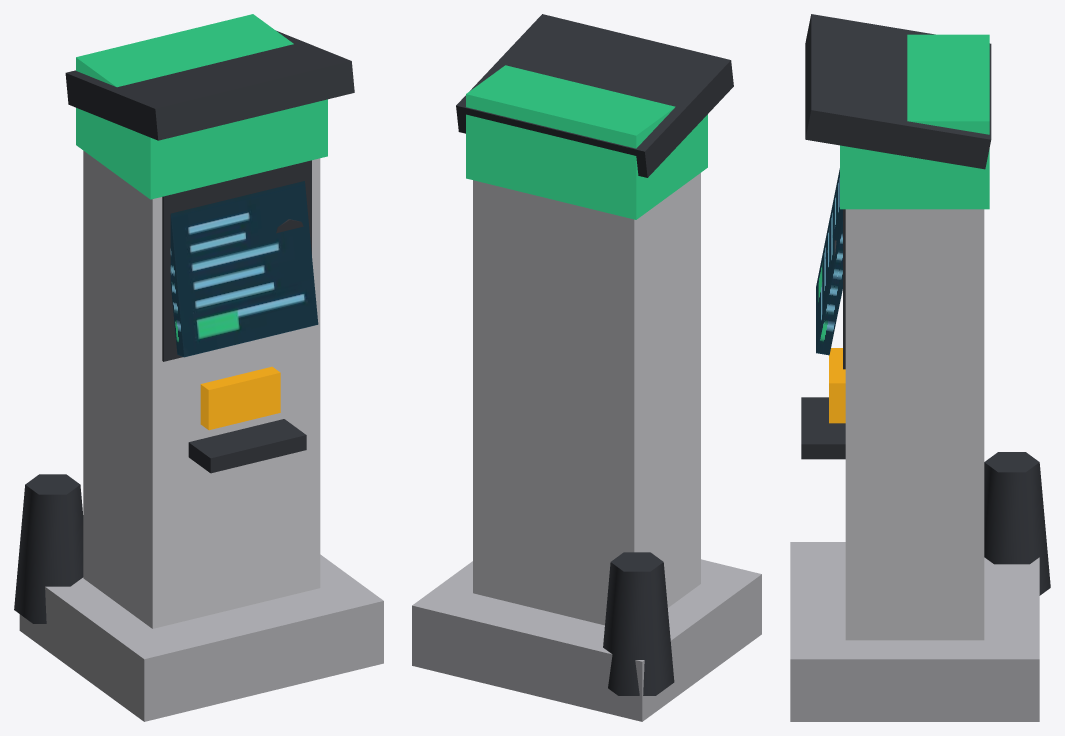
Rendered from totem.glb.
The picture shows the model from 3 angles, left to right: view 1: azimuth 30°, elevation 25°; view 2: azimuth 150°, elevation 25°; view 3: azimuth 270°, elevation 25°; orthographic projection. The views are drawn at different scales.
Bounding box in the file's own units: 1.04 × 2.39 × 0.94.
6 materials, 1 textured.
